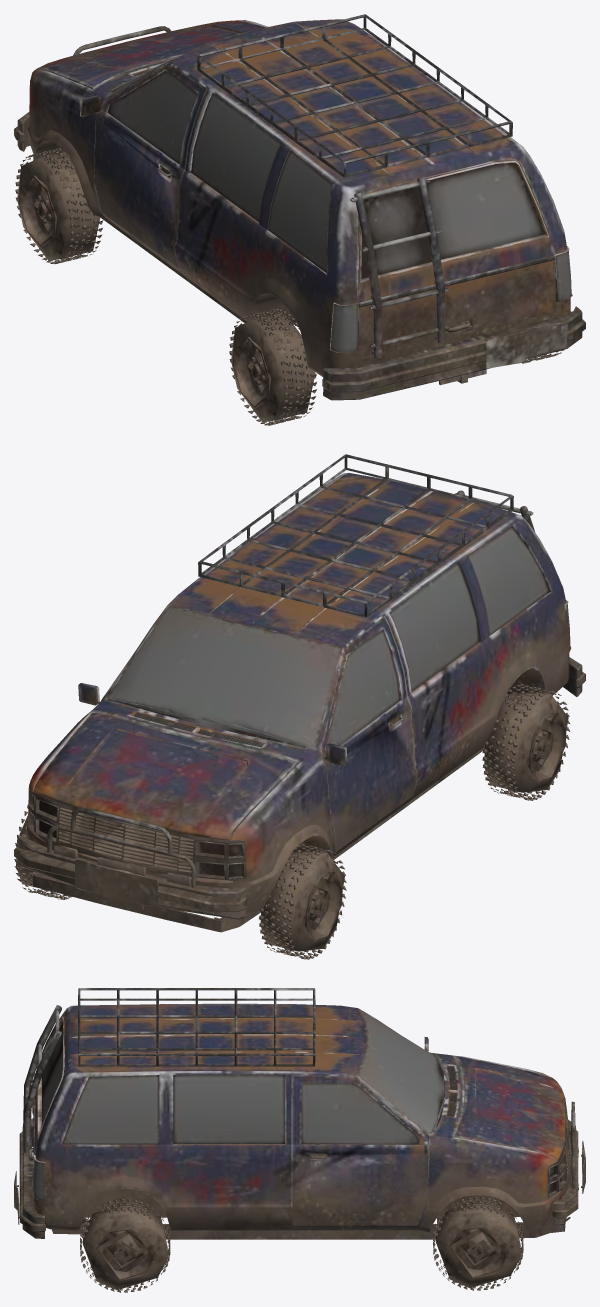
File: car3_van_offroad.glb
3 views of the same model, one above another, from view 1: azimuth 30°, elevation 25°; view 2: azimuth 150°, elevation 25°; view 3: azimuth 270°, elevation 25° (orthographic). The views are drawn at different scales.
Visible parts, largest first — view 1: Body, Trunk, Left_Door, Plane.001, BackLeftWheel, BackBumper, FrontLeftWheel, Window4, Hood, Window3, BackNumber, Frame (+1 smaller); view 2: Body, Windshield, Hood, Left_Door, Plane.001, BackLeftWheel, FrontLeftWheel, Grid, Window4, FrontBumper, Window3, Frame (+3 smaller); view 3: Body, RightDoor, Hood, Window2, FrontRightWheel, BackRightWheel, Plane.001, Window1, Windshield, Trunk, Frame, BackBumper (+2 smaller).
Boxes of the visible parts, left/top/right/bottom form: Body: left=27, top=19, right=572, bottom=376; Trunk: left=350, top=158, right=555, bottom=359; Left_Door: left=79, top=64, right=207, bottom=268; Plane.001: left=197, top=14, right=512, bottom=177; BackLeftWheel: left=229, top=308, right=316, bottom=425; BackBumper: left=322, top=306, right=585, bottom=400; FrontLeftWheel: left=15, top=148, right=103, bottom=264; Window4: left=191, top=93, right=281, bottom=221; Hood: left=37, top=20, right=265, bottom=89; Window3: left=268, top=150, right=331, bottom=272; BackNumber: left=484, top=323, right=567, bottom=368; Frame: left=33, top=156, right=467, bottom=383; Body: left=26, top=472, right=571, bottom=913; Windshield: left=107, top=606, right=340, bottom=748; Hood: left=33, top=713, right=297, bottom=839; Left_Door: left=321, top=616, right=417, bottom=851; Plane.001: left=198, top=454, right=513, bottom=617; BackLeftWheel: left=482, top=683, right=569, bottom=800; FrontLeftWheel: left=259, top=843, right=346, bottom=959; Grid: left=28, top=788, right=246, bottom=881; Window4: left=389, top=562, right=479, bottom=691; FrontBumper: left=14, top=834, right=246, bottom=919; Window3: left=467, top=526, right=549, bottom=635; Frame: left=30, top=745, right=484, bottom=932; Body: left=32, top=1003, right=571, bottom=1232; RightDoor: left=292, top=1075, right=429, bottom=1225; Hood: left=455, top=1056, right=566, bottom=1160; Window2: left=173, top=1074, right=285, bottom=1143; FrontRightWheel: left=433, top=1196, right=523, bottom=1290; BackRightWheel: left=80, top=1198, right=170, bottom=1292; Plane.001: left=78, top=988, right=315, bottom=1066; Window1: left=62, top=1075, right=159, bottom=1144; Windshield: left=358, top=1009, right=444, bottom=1133; Trunk: left=23, top=1005, right=64, bottom=1160; Frame: left=51, top=1217, right=570, bottom=1239; BackBumper: left=19, top=1118, right=45, bottom=1238.
Size of the model in its own units: 2.43 by 2.08 by 5.
Materials: 1 (1 with a texture image).
